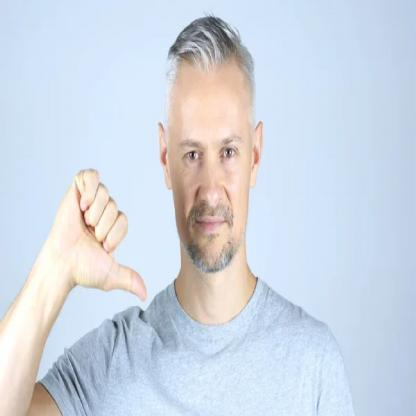thumb_down: (53, 161, 149, 306)
